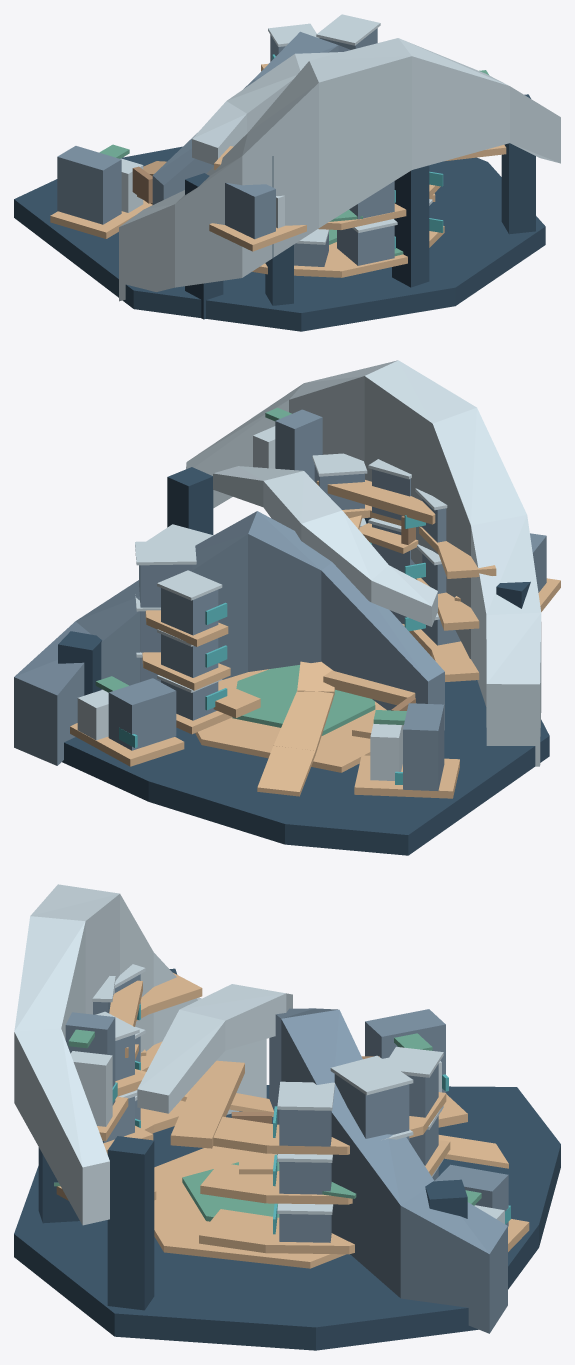
Rendered from a26_civic_rift.obj.
3 views of the same model, one above another, from view 1: azimuth 30°, elevation 25°; view 2: azimuth 150°, elevation 25°; view 3: azimuth 270°, elevation 25° (orthographic). The views are drawn at different scales.
Size of the model in its own units: 316 by 192 by 299.
